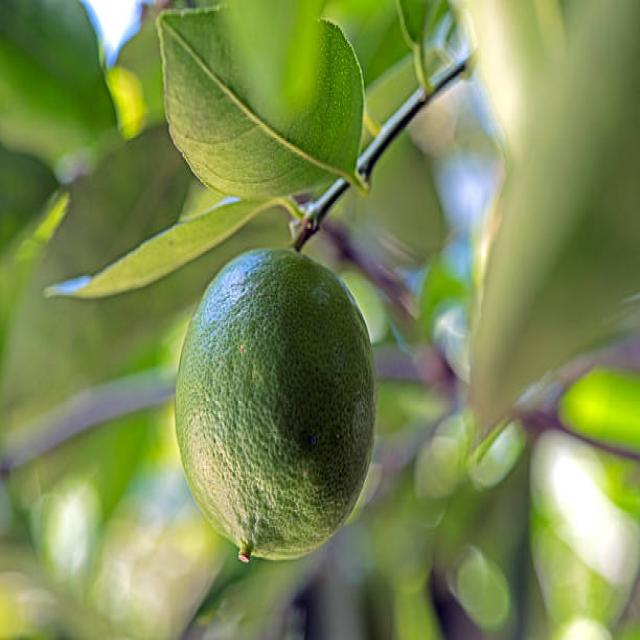Unripe: (173, 246, 376, 564)
